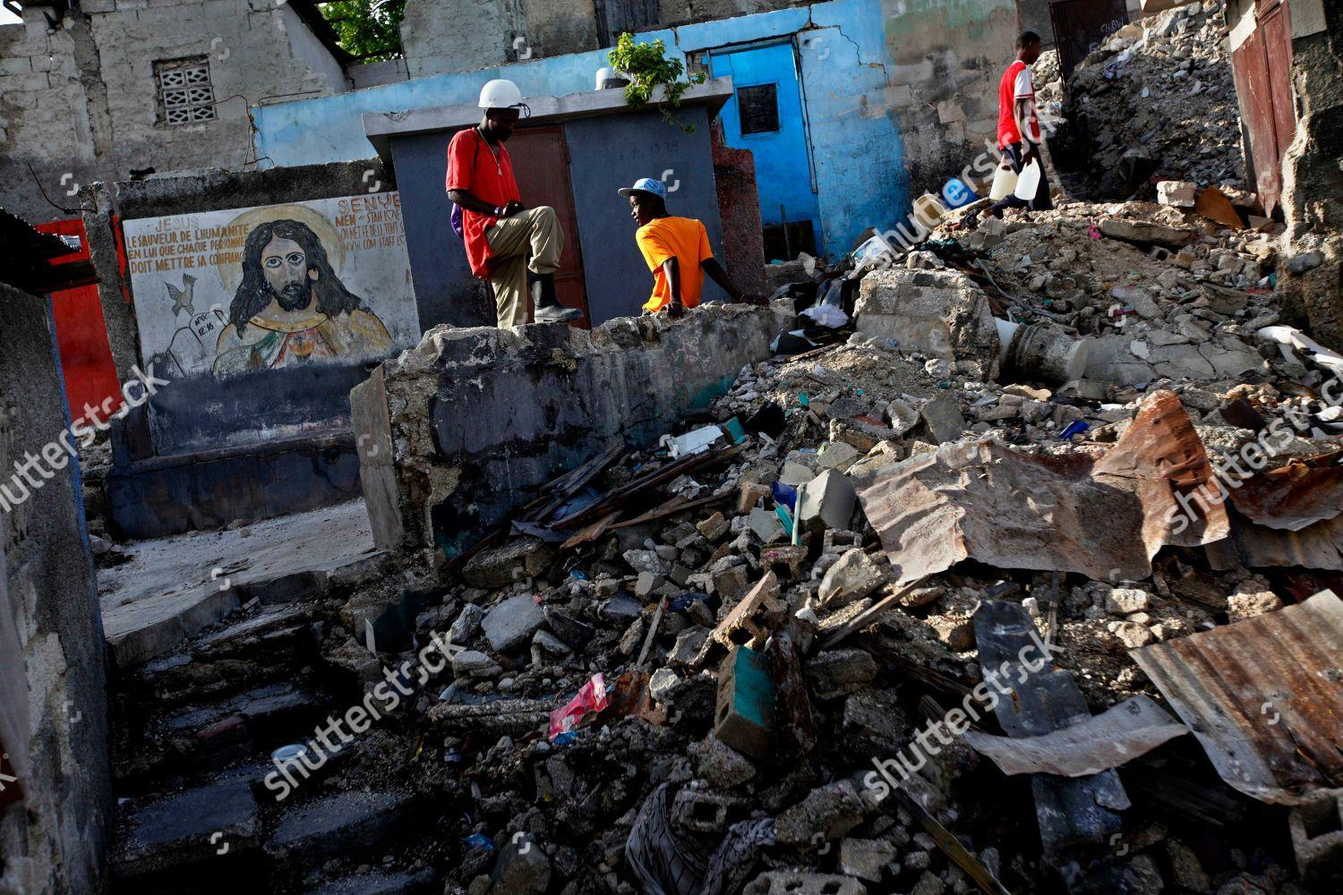victim: (439, 76, 573, 361), (616, 166, 756, 321), (989, 25, 1066, 217)
